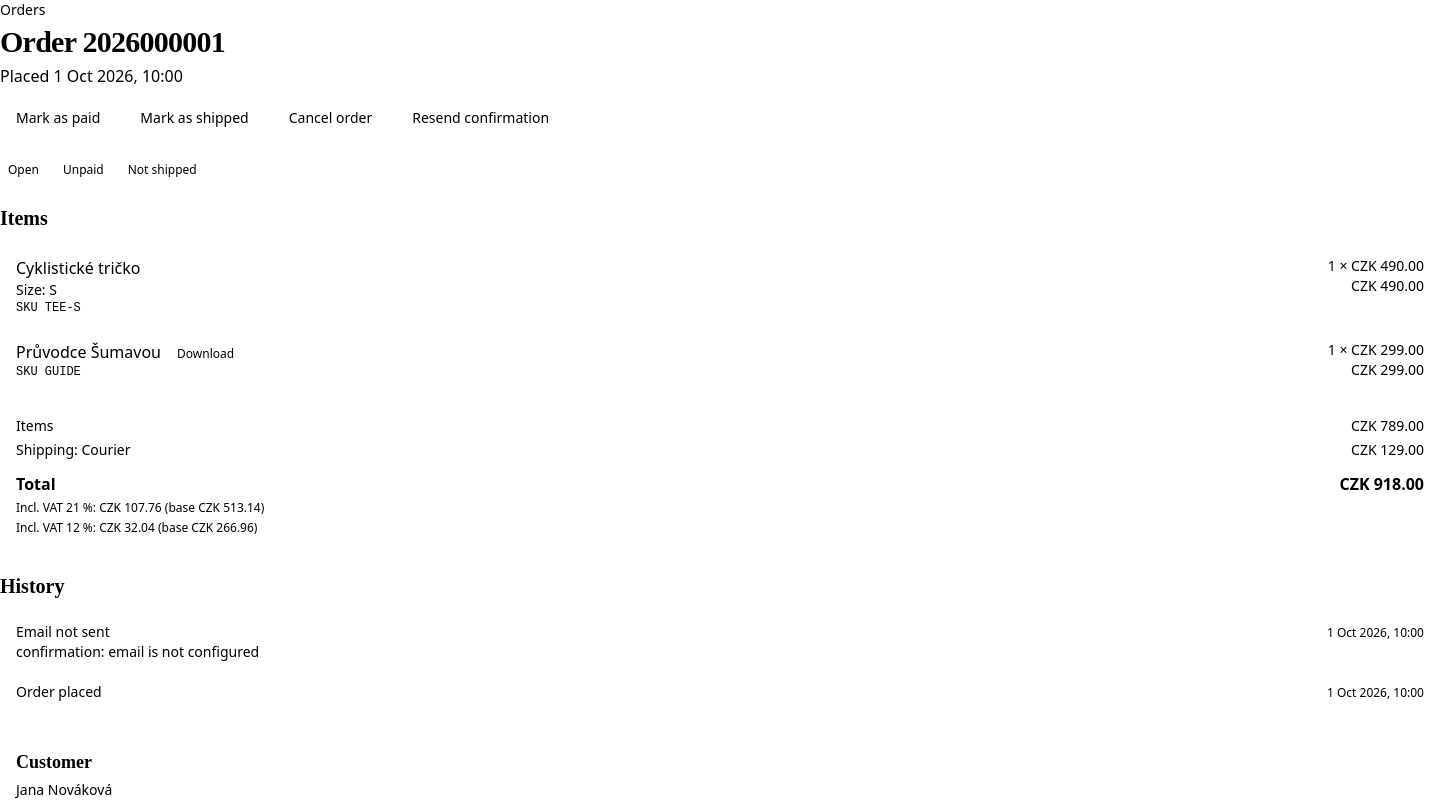
Test: marks the order paid after confirming
The width and height of the screenshot is (1440, 805).
Click the button "Mark as paid": (58, 118) [0, 100, 116, 136]
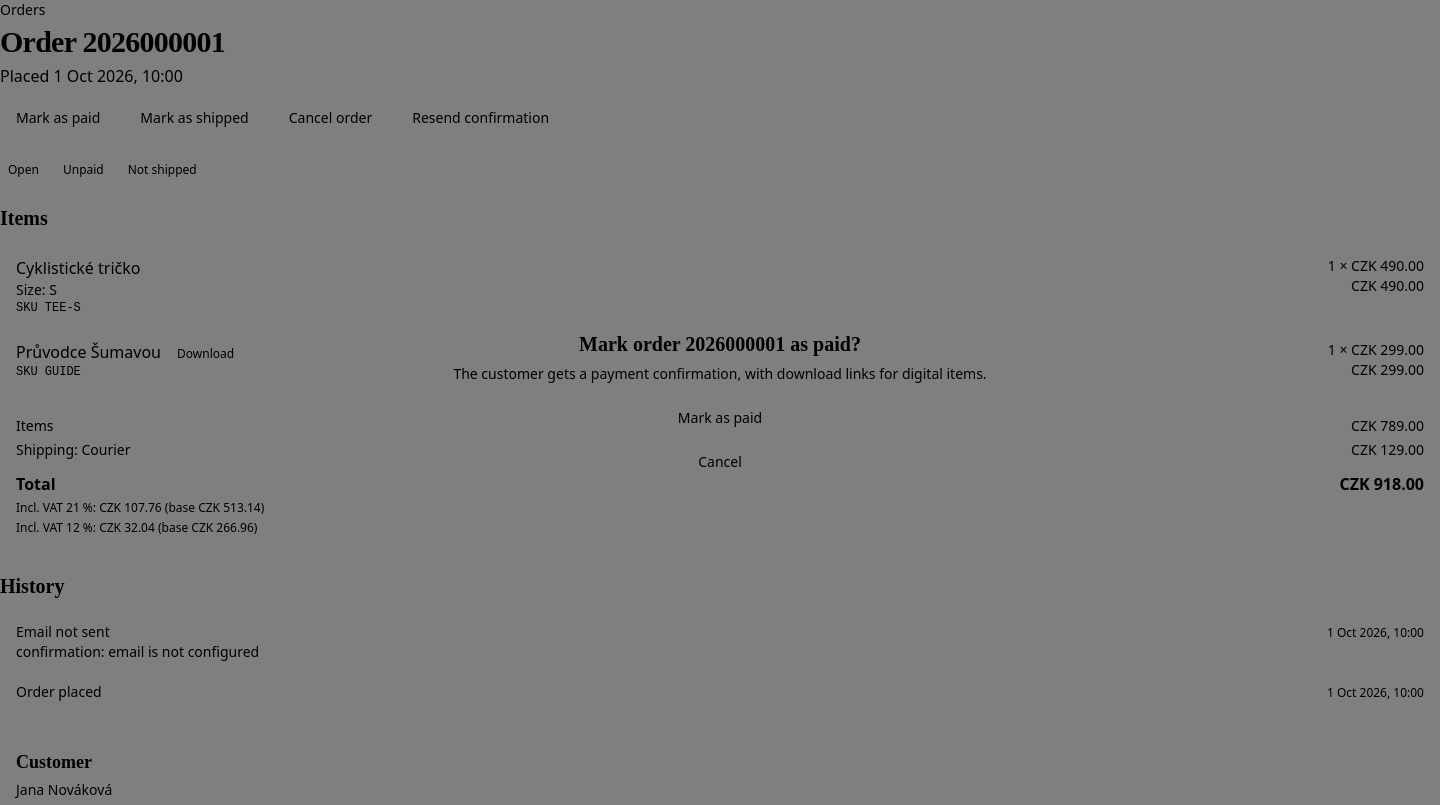
Click the button "Mark as paid": (720, 418) [40, 400, 1400, 436]
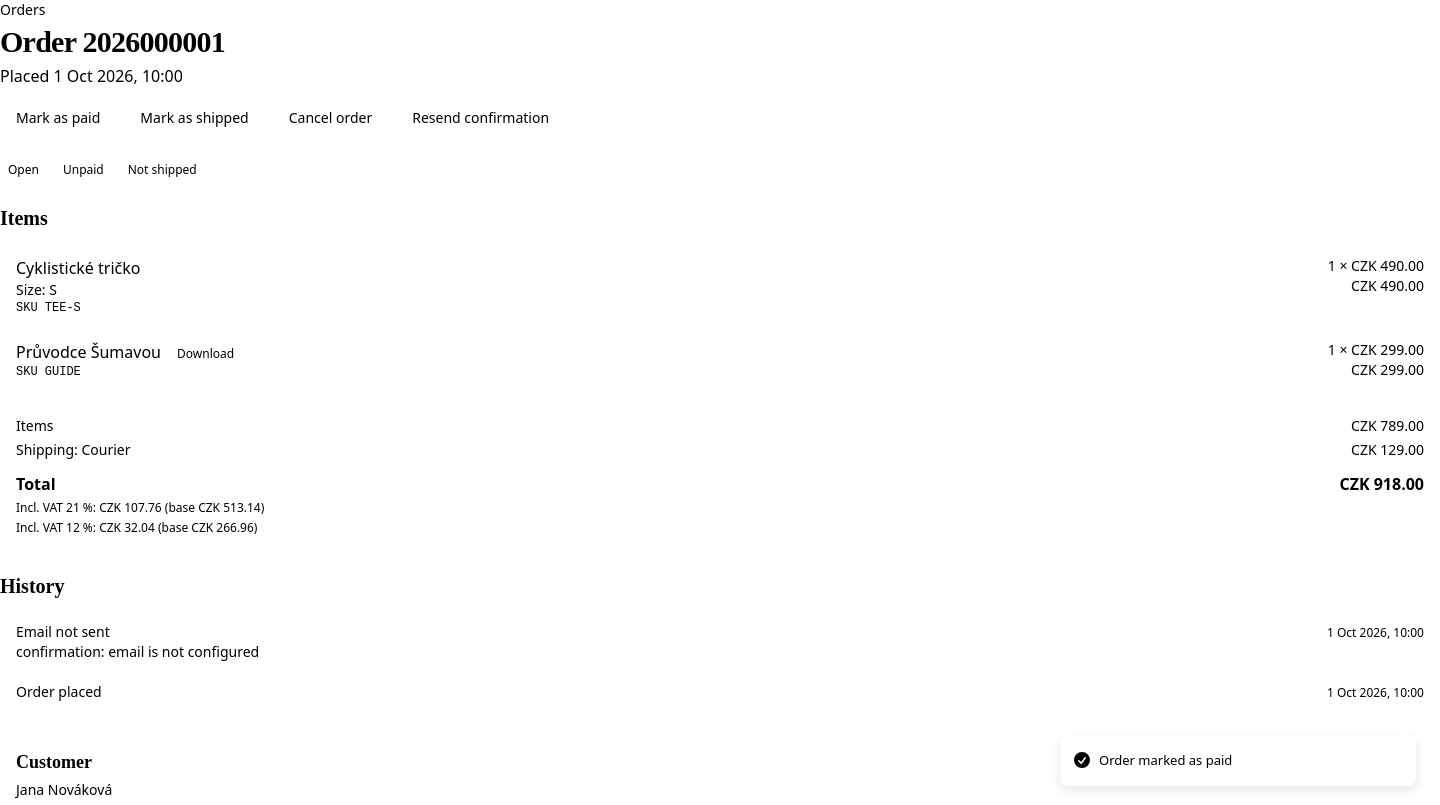
Check: the text "Order marked as paid" is shown, box [1099, 750, 1232, 770]
